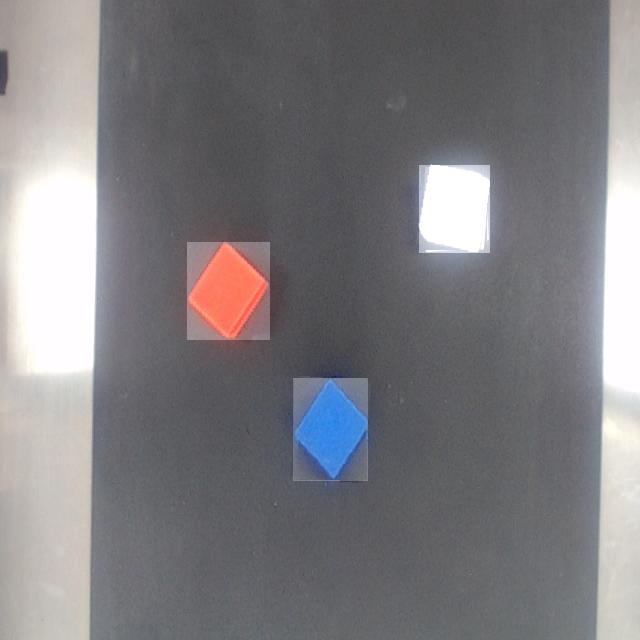Azul: (293, 378, 368, 481)
Blanco: (419, 165, 490, 253)
Rojo: (187, 242, 270, 340)
